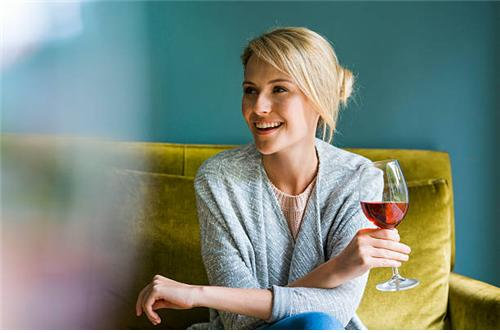alcohol: (358, 158, 418, 291)
